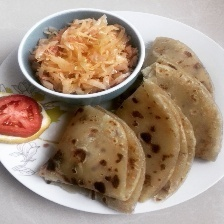sabzi: (25, 15, 139, 96)
